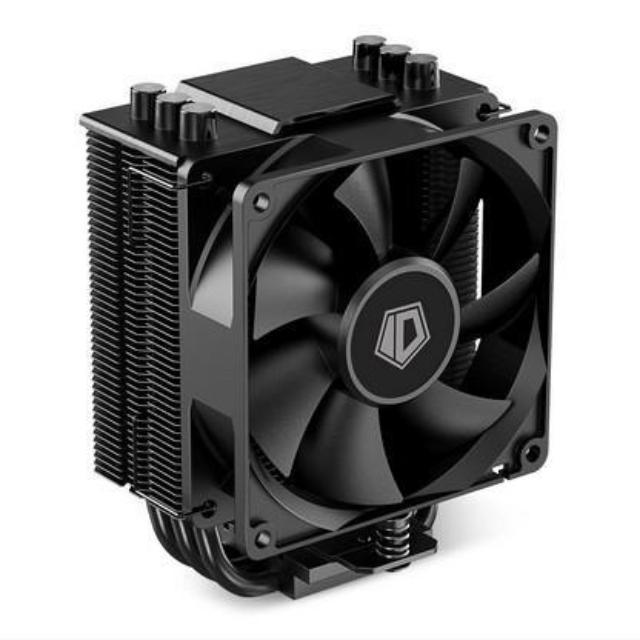CPU_Fan: (86, 32, 548, 600)
